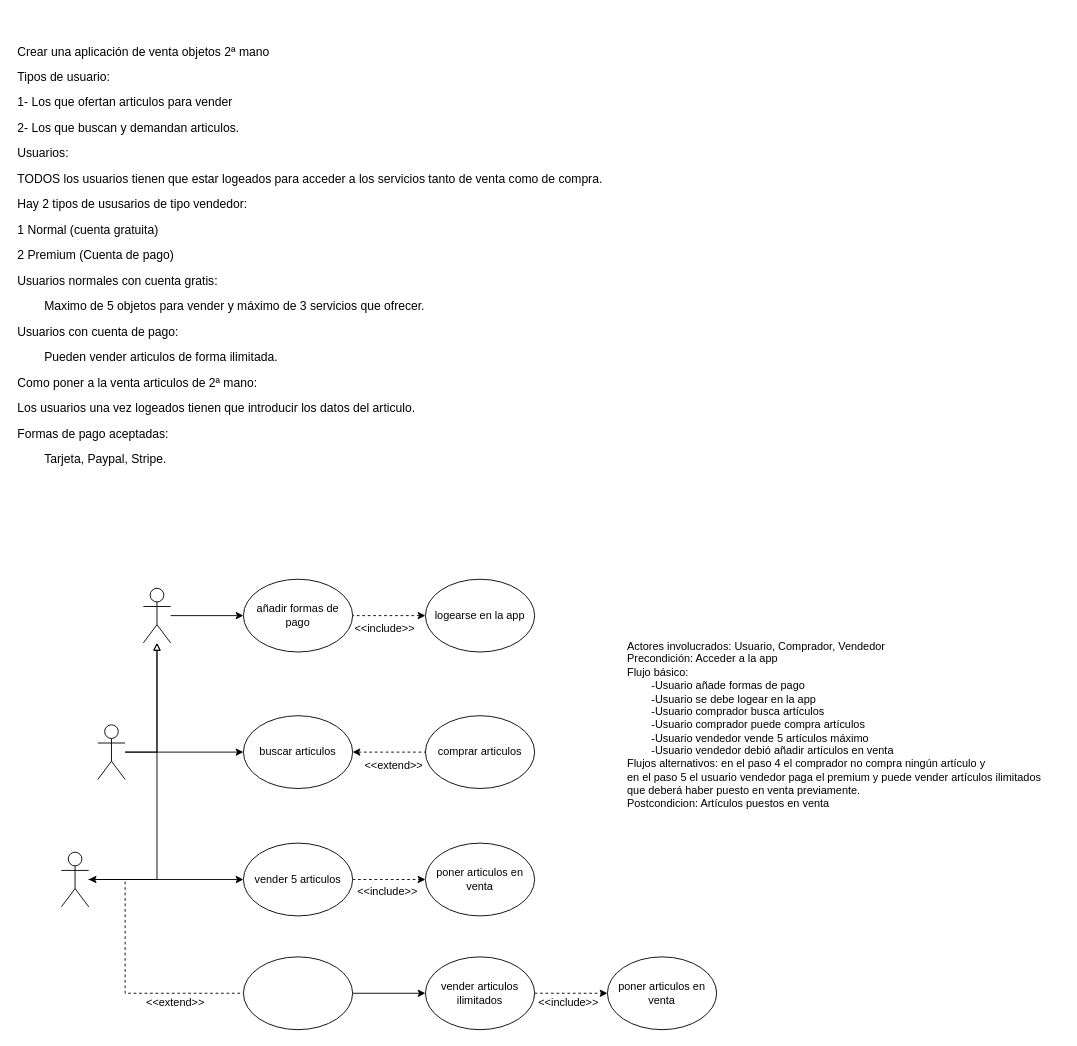
Image size: 1077x1046. Some labels were removed from this diagram. Each missing label, with the centre of its shape:
"Comprador" goes at pixel 111 751.
"pagar premium" goes at pixel 298 993.
"Usuario" goes at pixel 156 615.
"Vendedor" goes at pixel 75 879.
